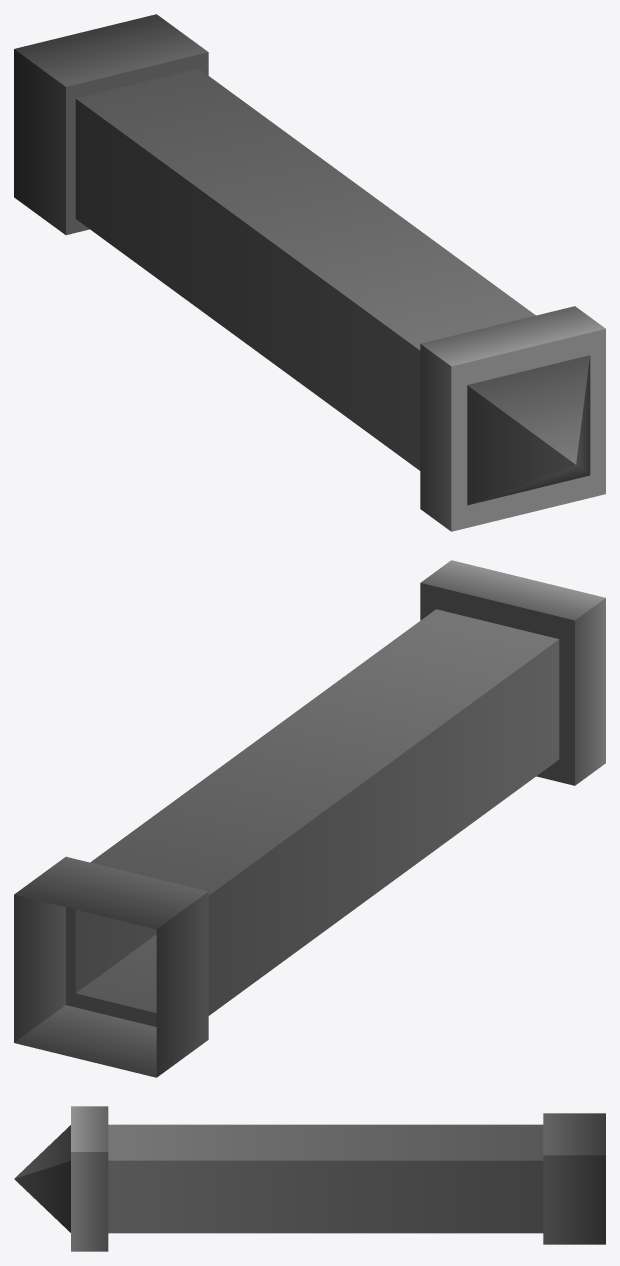
File: PagerB5.fbx
3 views of the same model, one above another, from view 1: azimuth 30°, elevation 25°; view 2: azimuth 150°, elevation 25°; view 3: azimuth 270°, elevation 25° (orthographic). The views are drawn at different scales.
Visible parts, largest first — view 1: PagerJ2_LOD0; view 2: PagerJ2_LOD0; view 3: PagerJ2_LOD0.
Boxes of the visible parts, x1,y1,x2,y2 form: PagerJ2_LOD0: (14,14,605,531); PagerJ2_LOD0: (14,560,605,1077); PagerJ2_LOD0: (14,1106,605,1251).
Size of what is drawn, in the model's own units: 61.29 by 62.66 by 337.
